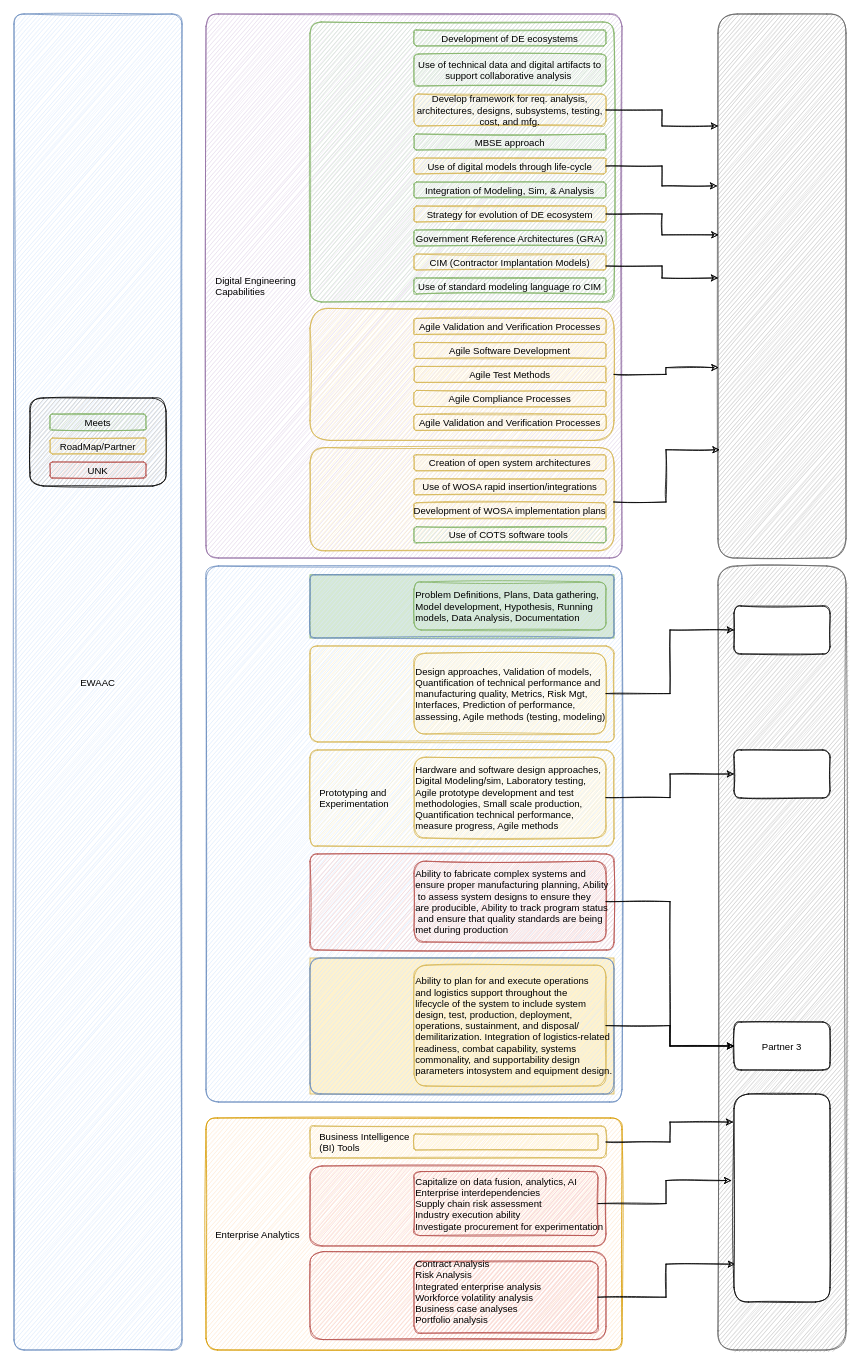
Some shapes in this 860 by 1364 pixel diagram are drawn without their labels. Here are the shapes that lost their labels. From the top down, the box of each, then its label:
(309, 21, 614, 302): Digital Engineering and Management
(717, 13, 846, 558): Digital Trinity RoadMap
(309, 308, 614, 440): Agile Processes
(29, 397, 166, 486): Legend
(309, 447, 614, 551): Open Architecture
(309, 574, 614, 638): Trade Space and Capabilities Studies
(733, 605, 830, 654): Partner 1
(309, 645, 614, 742): Design Engineering and Development
(733, 749, 830, 798): Partner 2
(205, 565, 622, 1102): Armament/Weapons Development
(309, 853, 614, 950): Production and Deployment
(717, 565, 846, 1350): Subcontractor Partnership
(309, 957, 614, 1094): Operations and Support
(413, 1133, 598, 1150): Leverage DoD HPC Centers
(309, 1165, 606, 1246): Data Mining and Transformations for BI
(733, 1093, 830, 1302): Partner 4
(309, 1251, 606, 1340): Development of Reporting/Analytics
